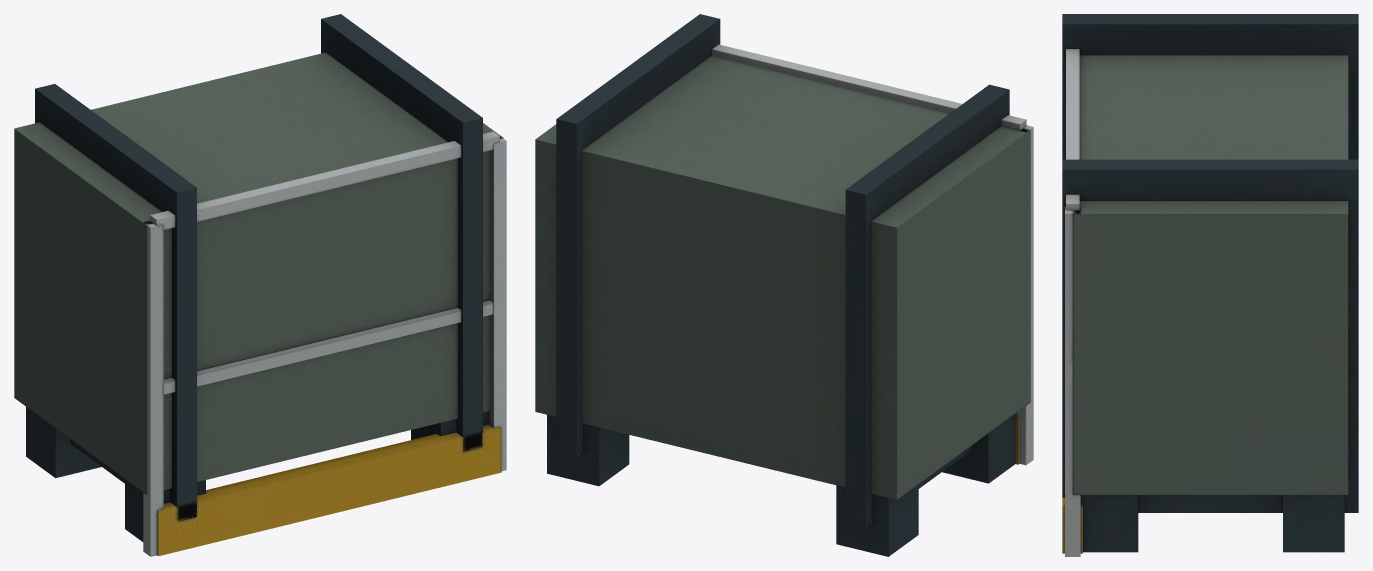
The model's file is cart.glb.
3 renders of one model, left to right at view 1: azimuth 30°, elevation 25°; view 2: azimuth 150°, elevation 25°; view 3: azimuth 270°, elevation 25°, orthographic. The views are drawn at different scales.
Parts seen in each view (by area): view 1: body; view 2: body; view 3: body.
Boxes of the visible parts, box(x1,y1,x2,y2) form: body: box(14, 14, 506, 556); body: box(535, 14, 1033, 556); body: box(1062, 14, 1358, 556).
Size of the model in its own units: 1.25 by 1.2 by 0.86.
1 material, 1 textured.
